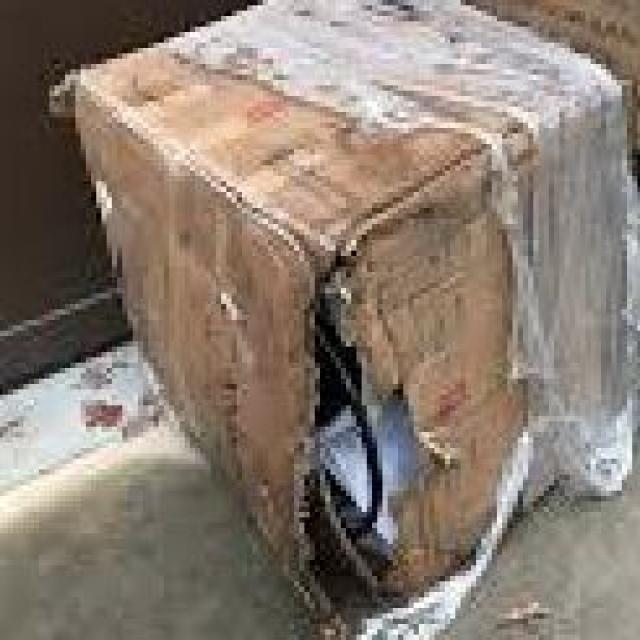damaged: (286, 275, 424, 613)
